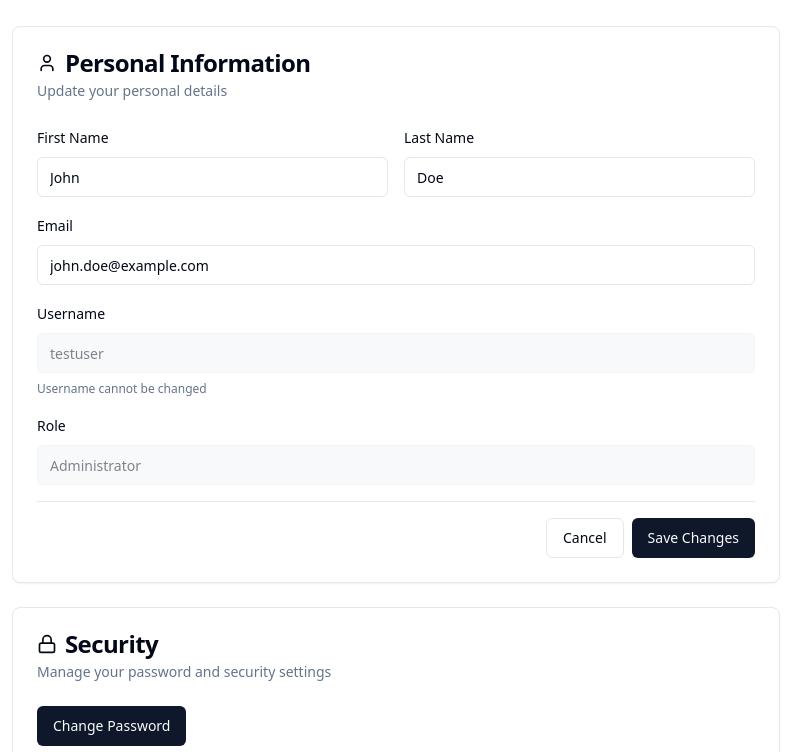
Scenario: ProfilePage › validates password confirmation matches
Expected: the field showing "John" is shown, [37,157,388,197]
Click the button "Change Password" at (112, 726), box [37,706,186,746]
(page scrolled)
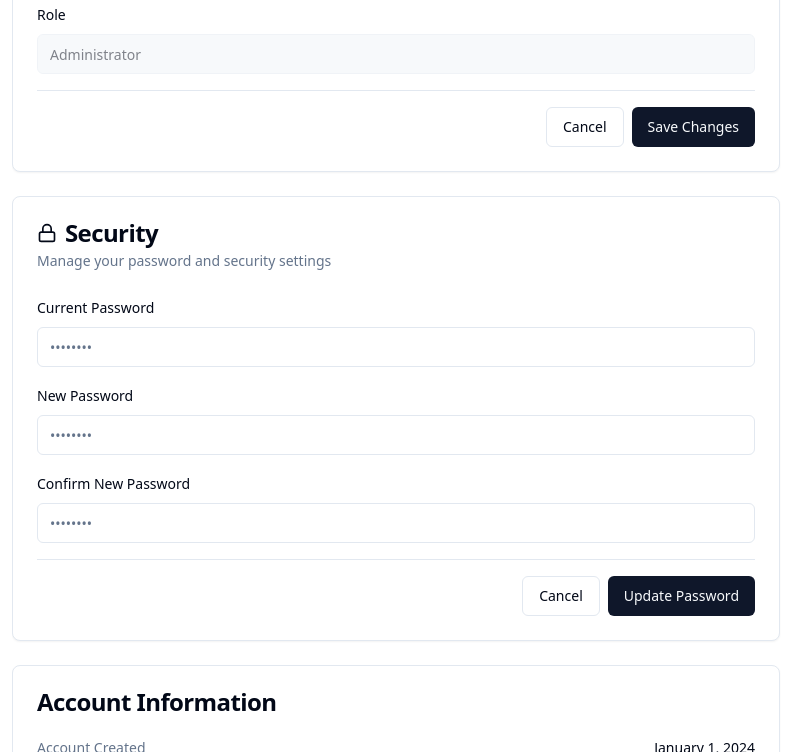
Expected: the password field labelled "Current Password" is shown
Type "oldpassword" into the password field labelled "Current Password" at (396, 347), box [37,327,755,367]
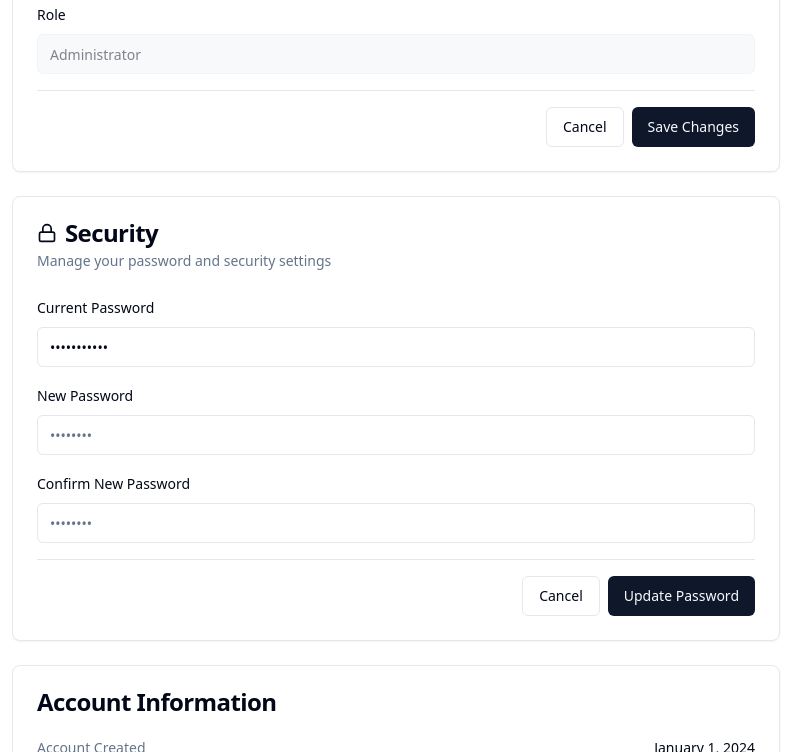
Type "newpassword123" into the password field labelled "New Password" at (396, 435), box [37,415,755,455]
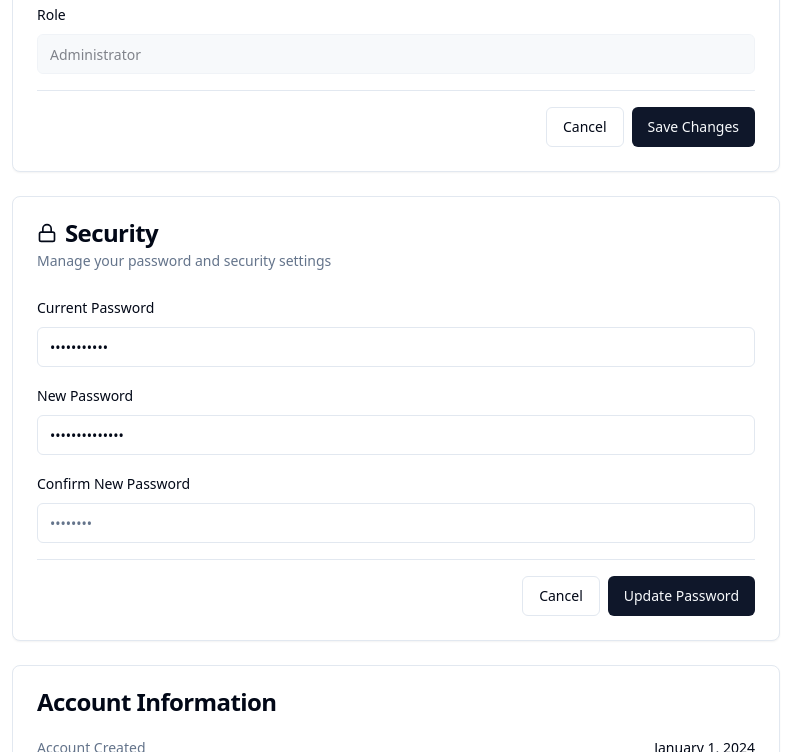
Type "differentpassword" into the password field labelled "Confirm New Password" at (396, 523), box [37,503,755,543]
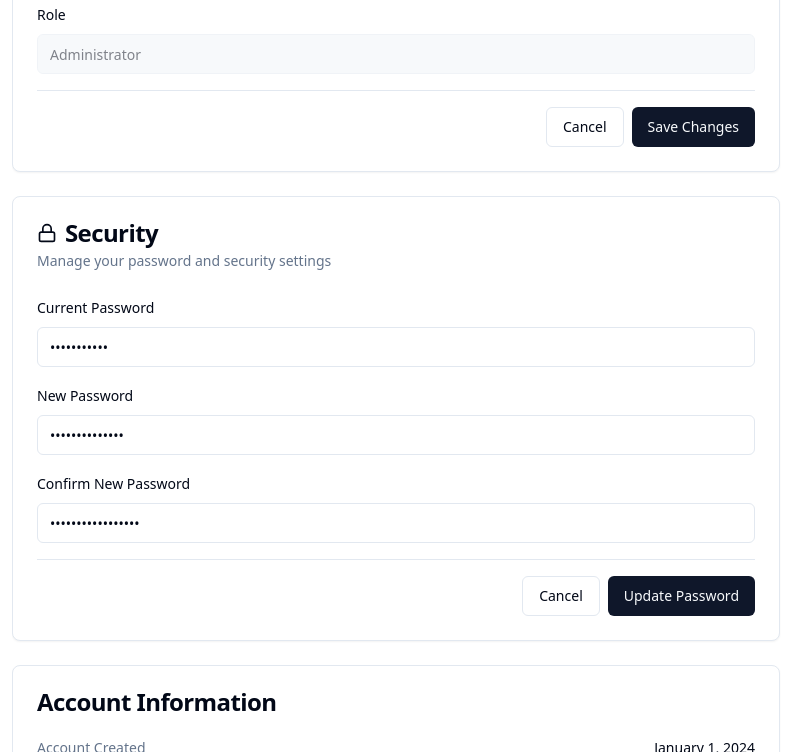
Click the button "Update Password" at (681, 596), box [608,576,755,616]
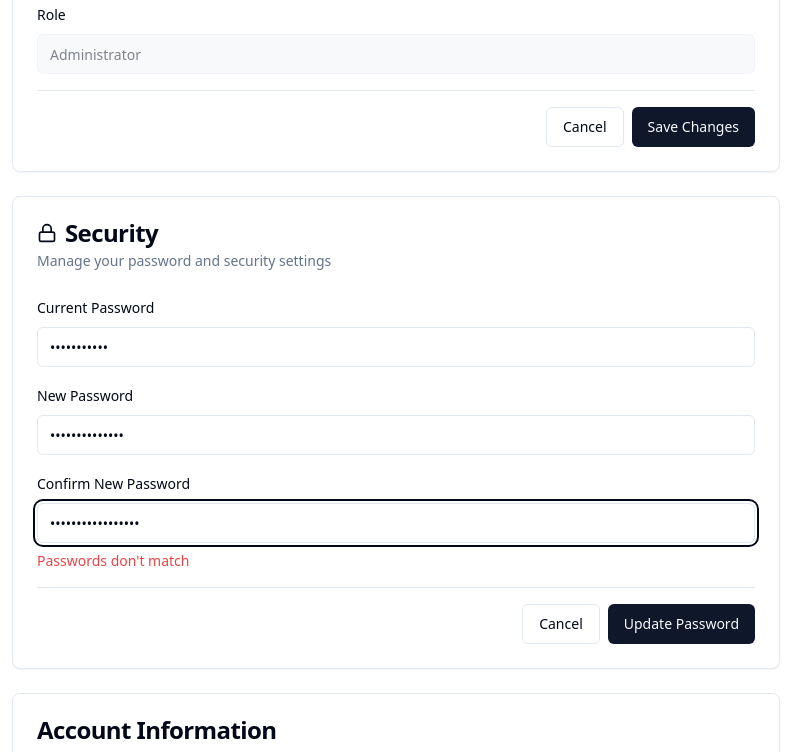
Expected: the text "Passwords don't match" is shown, [37,551,190,570]
